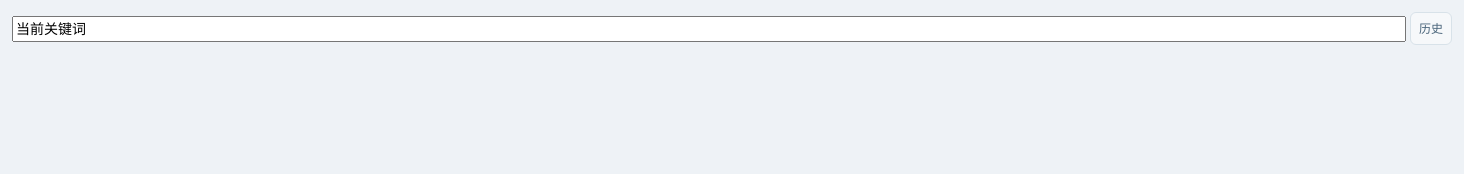
it: SearchKeywordInput › opens the named history region on focus and from the adjacent history button
Focus the field named "包含关键词 1": (709, 29) [12,16,1406,42]
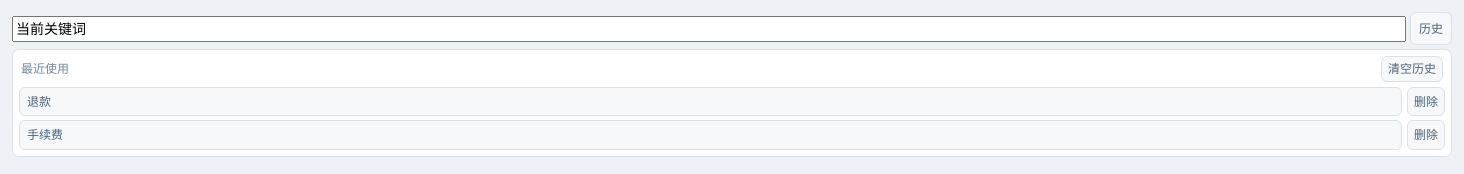
Result: the element named "包含关键词 1的历史记录列表" is shown
Leave the field named "包含关键词 1", box [12,16,1406,42]
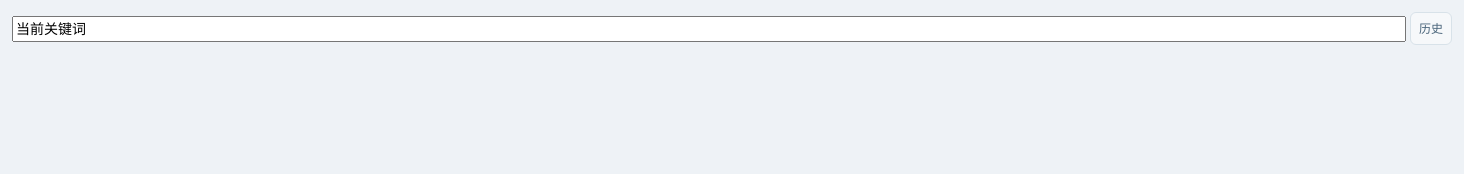
Click the button with aria-label "包含关键词 1的历史记录": (1431, 29) [1410,12,1452,45]
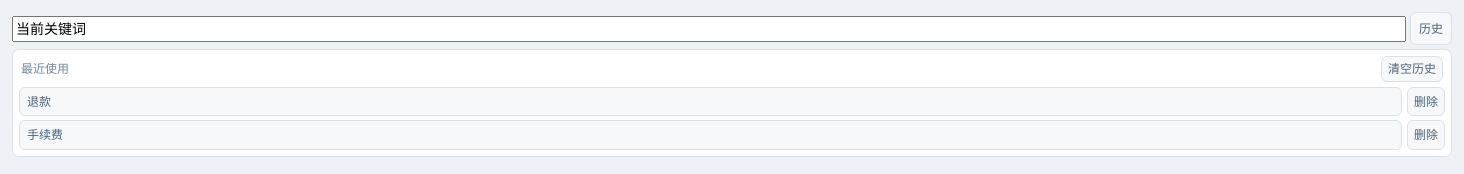
Result: the element named "包含关键词 1的历史记录列表" is shown
